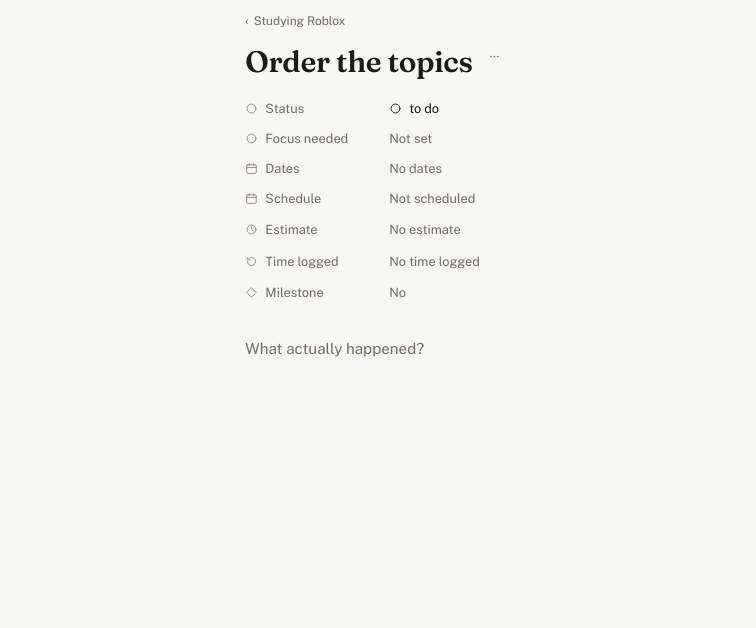
Test: Project page › keeps the navigated step selected, and holds the pulse pointer while its page is open
Click the button named "Actions for ": (495, 56) [483, 44, 507, 68]
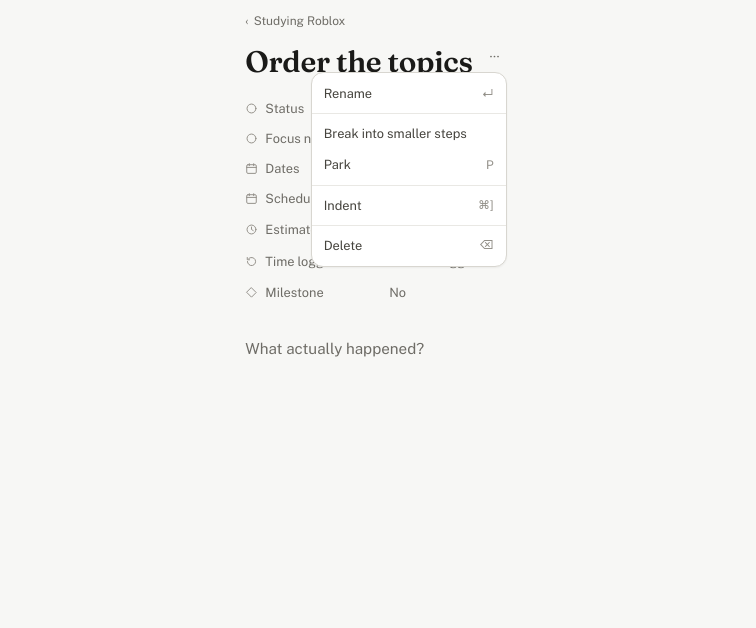
Expected: the menu item "Break into smaller steps" is shown
Click the menu item "Break into smaller steps": (409, 134) [312, 118, 506, 149]
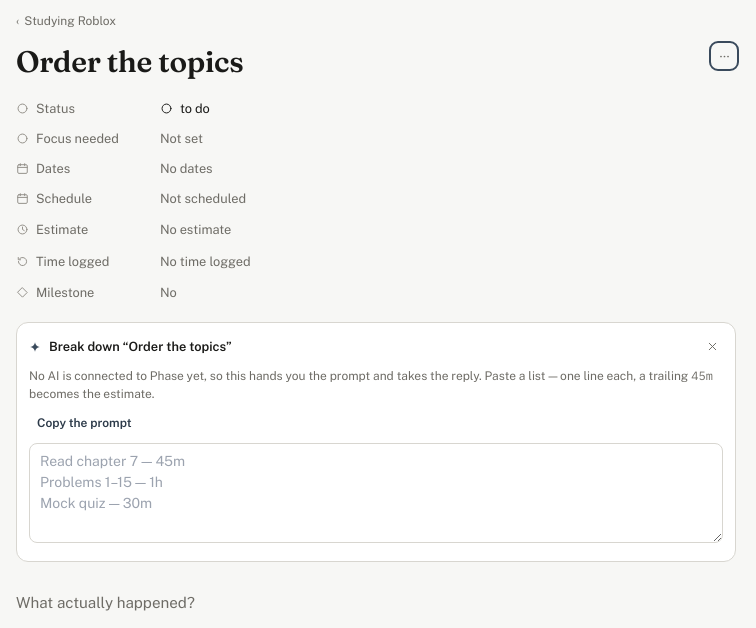
Expected: the heading "Break down “Order the topics”" is shown, [49, 339, 232, 354]
